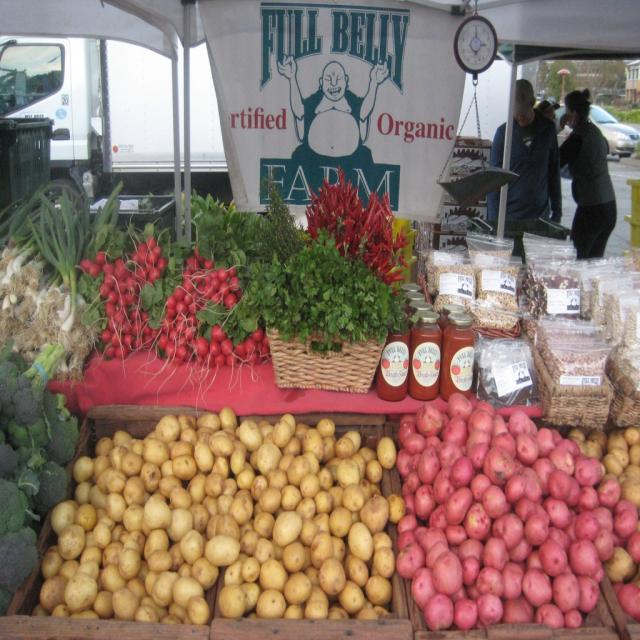Potato: (29, 387, 639, 633)
